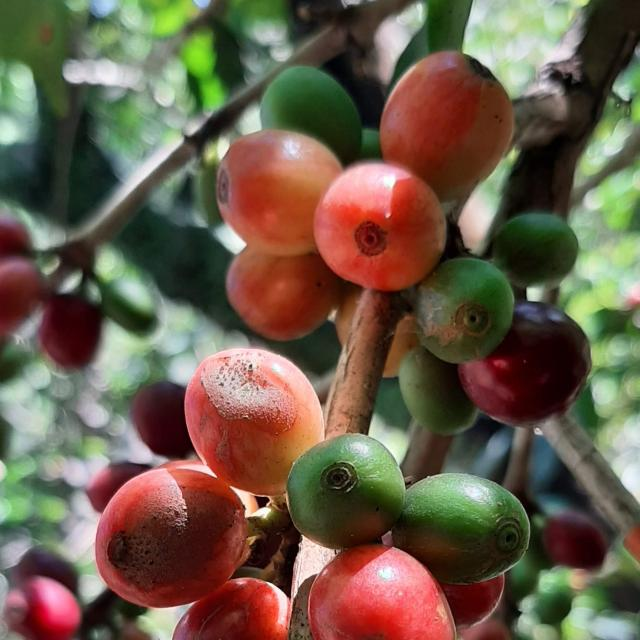green: (393, 474, 531, 586), (287, 434, 406, 551), (417, 257, 515, 364), (260, 65, 362, 164), (399, 346, 478, 436), (493, 212, 580, 287)
red: (95, 469, 247, 609), (380, 50, 515, 200), (314, 162, 446, 291), (459, 301, 593, 427), (308, 545, 456, 640), (172, 579, 290, 640), (440, 576, 505, 631)
yellow: (184, 349, 324, 497), (216, 128, 342, 256), (226, 247, 341, 341)
